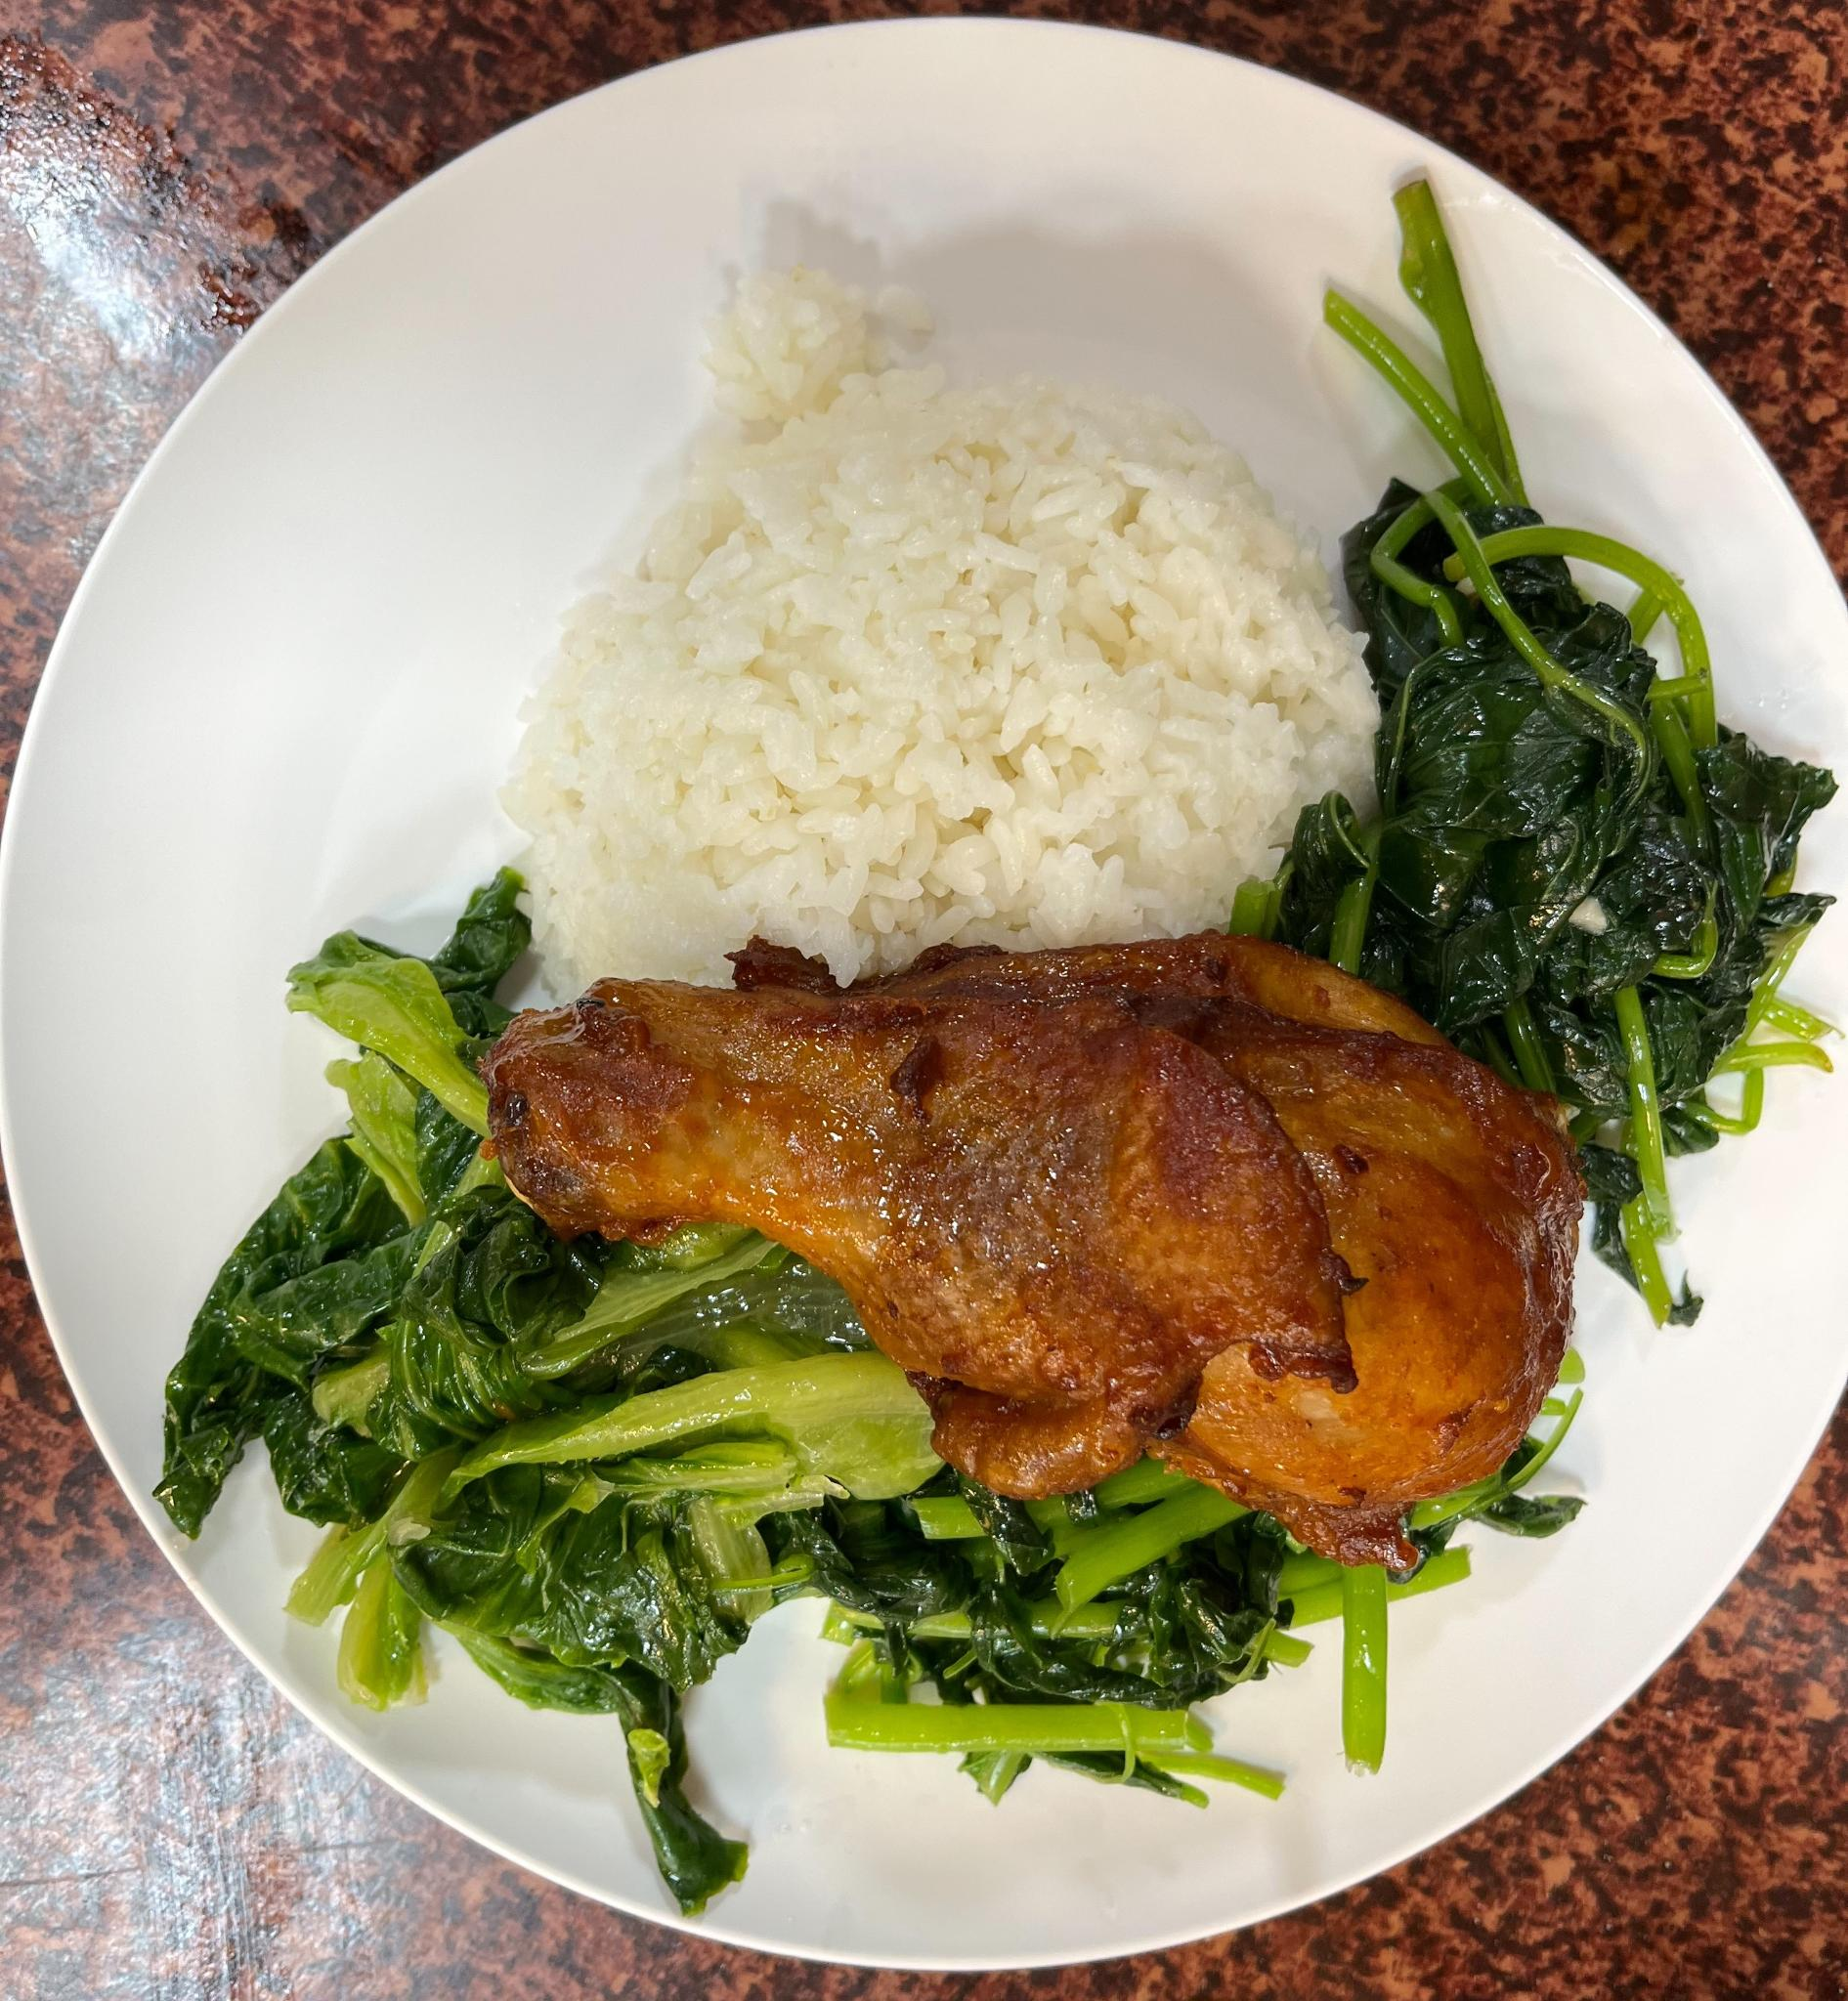big fried chicken leg: (14, 26, 1848, 1994)
big herbal chicken leg: (448, 319, 1363, 994)
braised fish fillet: (1370, 411, 1811, 1292), (239, 1095, 873, 1698), (882, 1377, 1597, 1780)
braised pork: (485, 931, 1600, 1536)
